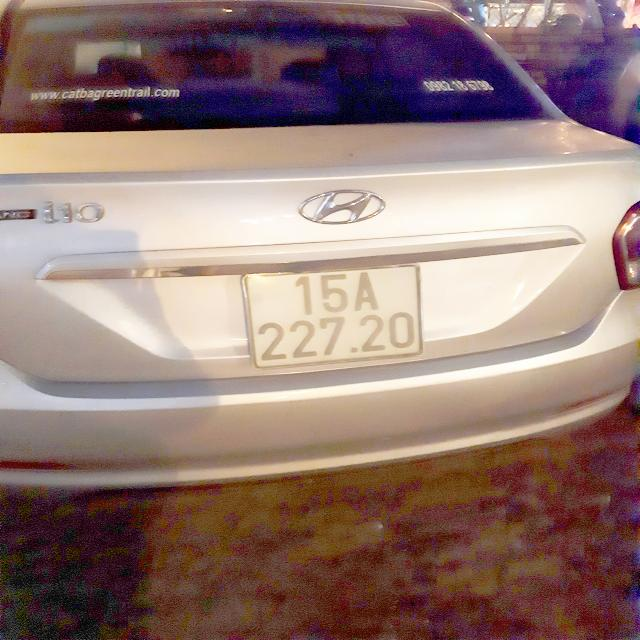license_plate: (229, 256, 439, 379)
